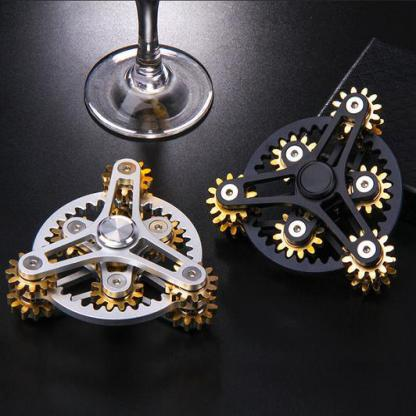FOD: (88, 258, 146, 312), (204, 170, 258, 227), (168, 256, 218, 305), (274, 210, 321, 260)
